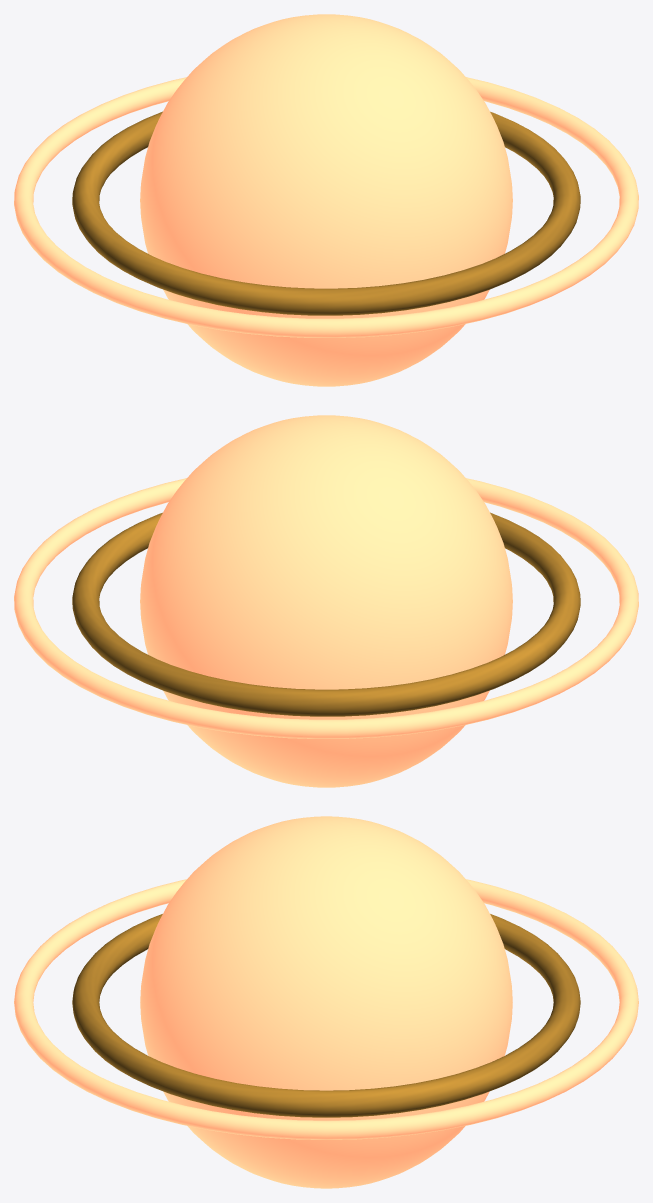
File: Clockwork.glb
3 renders of one model, top to bottom at view 1: azimuth 30°, elevation 25°; view 2: azimuth 150°, elevation 25°; view 3: azimuth 270°, elevation 25°, orthographic.
Parts seen in each view (by area): view 1: Core, RingB, RingA; view 2: Core, RingB, RingA; view 3: Core, RingB, RingA.
Part boxes in pixels (x1,y1,x2,y2): Core: (140, 14, 512, 386); RingB: (14, 77, 638, 337); RingA: (72, 111, 580, 315); Core: (140, 415, 512, 787); RingB: (14, 478, 638, 738); RingA: (72, 512, 580, 716); Core: (140, 816, 512, 1188); RingB: (14, 879, 638, 1139); RingA: (72, 914, 580, 1117).
Bounding box in the file's own units: 1.61 × 0.96 × 1.61.
2 materials, 1 textured.
